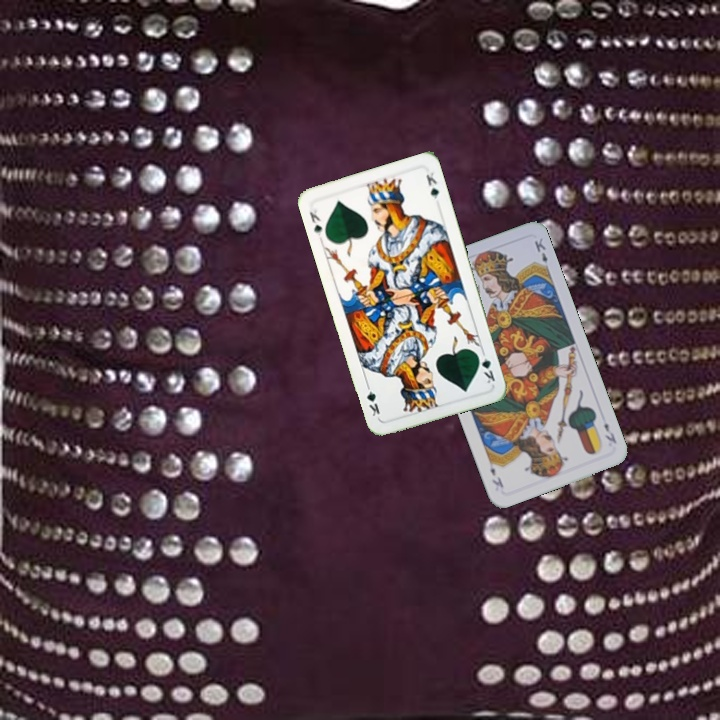EK: (600, 418, 619, 446)
GK: (473, 347, 498, 386), (305, 205, 325, 242)
